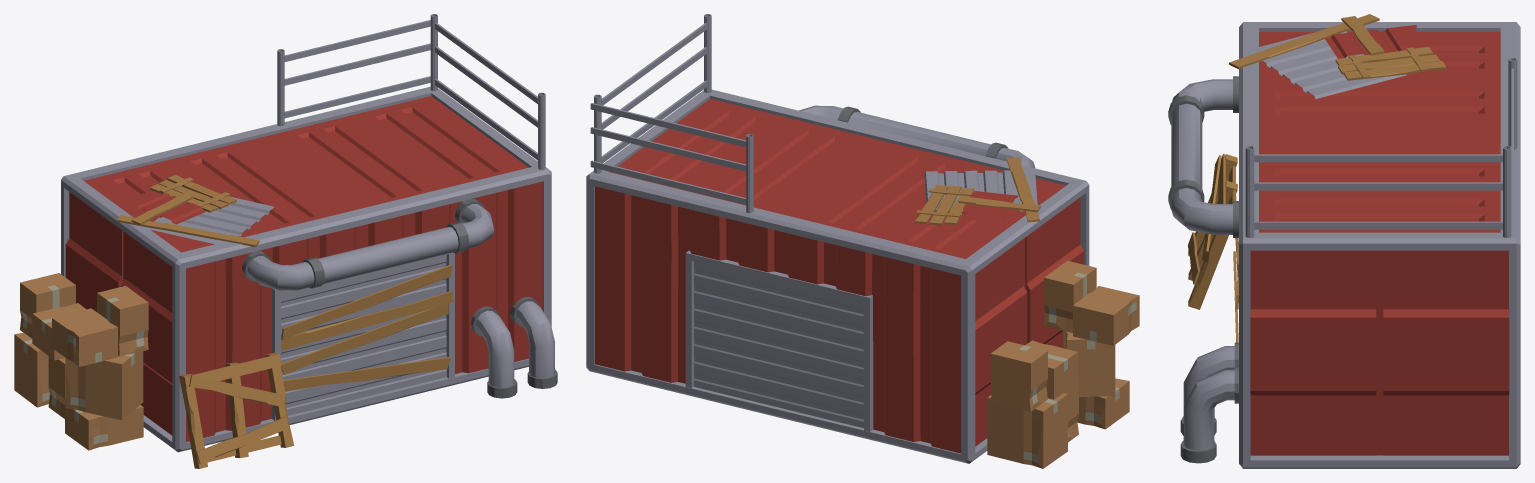
Rendered from quaternius-toon-shooter-game-structure-1.glb.
3 renders of one model, left to right at view 1: azimuth 30°, elevation 25°; view 2: azimuth 150°, elevation 25°; view 3: azimuth 270°, elevation 25°, orthographic. The views are drawn at different scales.
Parts seen in each view (by area): view 1: Structure_1; view 2: Structure_1; view 3: Structure_1.
Boxes of the visible parts, left/top/right/bottom form: Structure_1: left=14, top=14, right=557, bottom=468; Structure_1: left=586, top=14, right=1139, bottom=468; Structure_1: left=1168, top=14, right=1520, bottom=468.
Size of the model in its own units: 7.98 by 4.56 by 4.52.
1 material, 1 textured.
